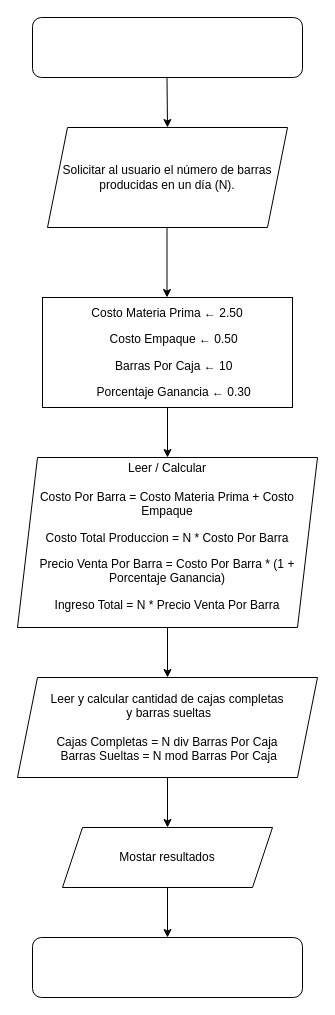
The diagram is 335 pixels wide and 1015 high, and some of its shapes have lost their labels. The shapes that lost their labels are listed below. From the top down, each one's centre as x and y in pixels, then its label:
At pixel 167 47: "Inicio".
At pixel 167 967: "Fin".
